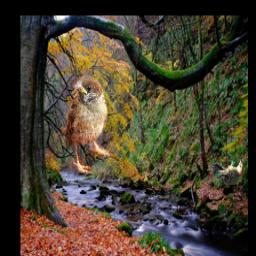Sparrow: (52, 74, 112, 173)
Woodpecker: (211, 154, 247, 185)
